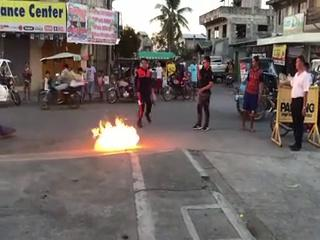Fire: (87, 118, 139, 152)
